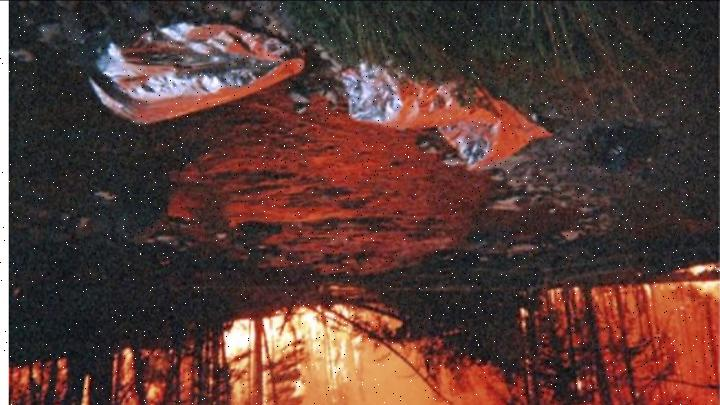fire: (214, 290, 406, 405)
